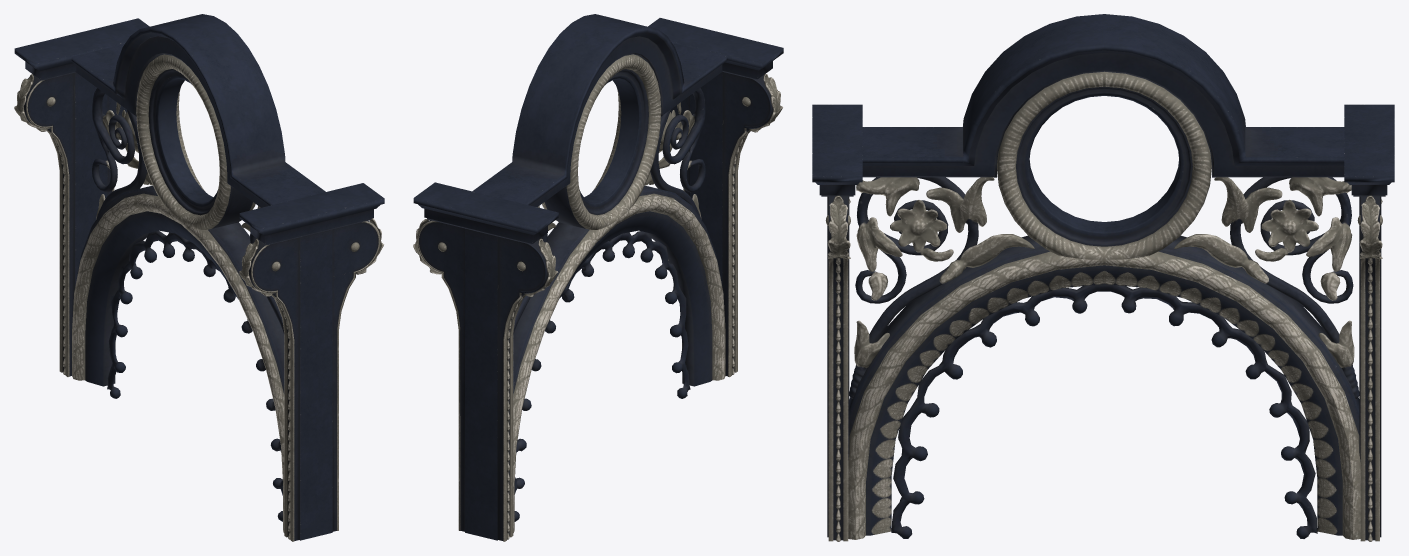
File: victorianArched.fbx
3 renders of one model, left to right at view 1: azimuth 30°, elevation 25°; view 2: azimuth 150°, elevation 25°; view 3: azimuth 270°, elevation 25°, orthographic. The views are drawn at different scales.
Visible parts, largest first — view 1: polySurface36, arch_pillar.001, arch_pillar; view 2: polySurface36, arch_pillar, arch_pillar.001; view 3: polySurface36, arch_pillar.001, arch_pillar.
Boxes of the visible parts, bbox=[...] form: polySurface36: bbox=[71, 14, 325, 532]; arch_pillar.001: bbox=[239, 183, 384, 541]; arch_pillar: bbox=[14, 18, 149, 376]; polySurface36: bbox=[472, 14, 727, 532]; arch_pillar: bbox=[413, 182, 558, 541]; arch_pillar.001: bbox=[648, 18, 783, 377]; polySurface36: bbox=[848, 14, 1360, 539]; arch_pillar.001: bbox=[812, 104, 862, 541]; arch_pillar: bbox=[1344, 104, 1394, 541].
Size of the model in its own units: 64.38 by 193 by 200.
